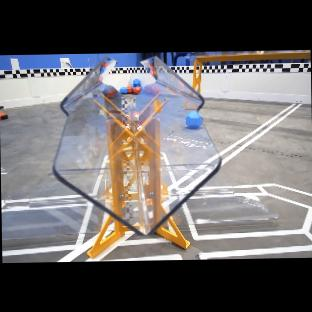Autolimit: (161, 103, 301, 211), (57, 227, 135, 262), (132, 221, 138, 226), (148, 210, 152, 217)
Goal: (52, 56, 221, 246)
Med_goal: (52, 56, 221, 257)
V5_BLUE: (185, 110, 201, 127)
